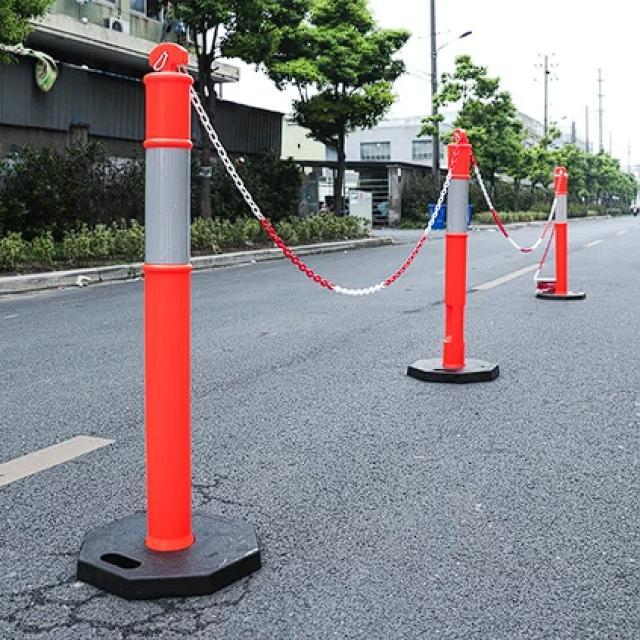obstacle: (140, 40, 195, 559), (445, 124, 470, 368), (551, 164, 571, 297)
